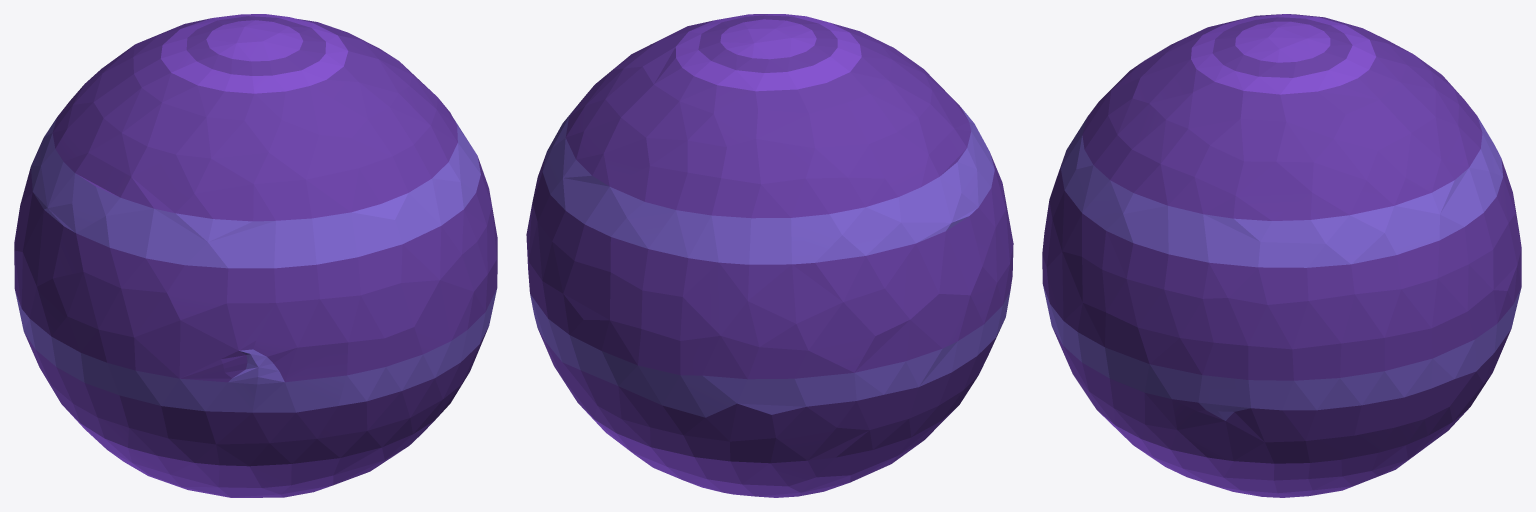
The model's file is Gas_Giant_02.fbx.
3 views of the same model, side by side, from view 1: azimuth 30°, elevation 25°; view 2: azimuth 150°, elevation 25°; view 3: azimuth 270°, elevation 25° (orthographic).
Visible parts, largest first — view 1: Gas_Giant_02; view 2: Gas_Giant_02; view 3: Gas_Giant_02.
Part boxes in pixels (x1,y1,x2,y2): Gas_Giant_02: (14, 14, 497, 497); Gas_Giant_02: (526, 14, 1013, 497); Gas_Giant_02: (1042, 14, 1521, 497).
Size of the model in its own units: 18191 by 18213 by 18088.
1 material, 1 textured.
